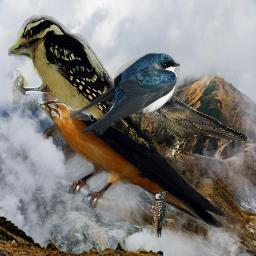Crow: (130, 78, 249, 158)
Swallow: (11, 34, 227, 233), (65, 52, 180, 135)
Woodpecker: (8, 12, 156, 149), (147, 191, 168, 240)
